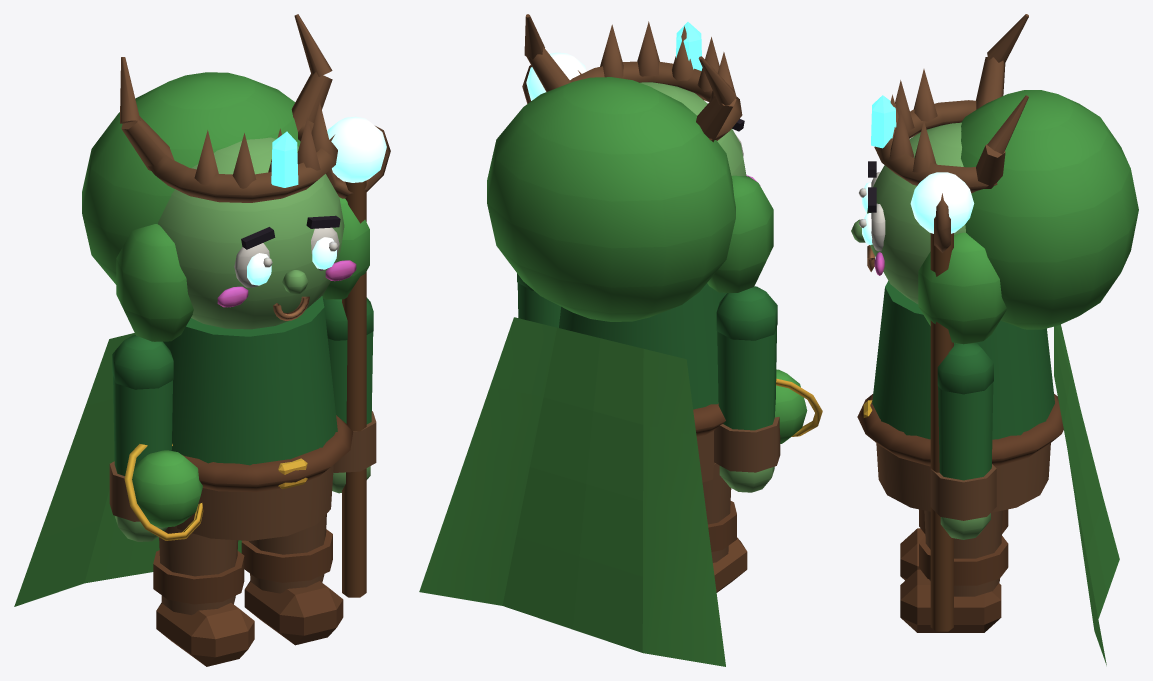
File: hero_verdant.glb
3 renders of one model, left to right at view 1: azimuth 30°, elevation 25°; view 2: azimuth 150°, elevation 25°; view 3: azimuth 270°, elevation 25°, orthographic. The views are drawn at different scales.
Parts seen in each view (by area): view 1: body_t0_palette, arml_t0_palette, armr_t0_palette, legl_t0_palette, legr_t0_palette, armr_t0_glow_teal, body_t0_crystal, body_t0_glow_teal; view 2: body_t0_palette, arml_t0_palette, legl_t0_palette, armr_t0_palette, armr_t0_glow_teal, body_t0_crystal; view 3: body_t0_palette, armr_t0_palette, legr_t0_palette, armr_t0_glow_teal, legl_t0_palette, body_t0_crystal.
Part boxes in pixels (x1,y1,x2,y2): body_t0_palette: (14,14,369,606); arml_t0_palette: (109,335,203,541); armr_t0_palette: (323,126,390,597); legl_t0_palette: (153,525,254,666); legr_t0_palette: (241,514,343,645); armr_t0_glow_teal: (327,116,386,182); body_t0_crystal: (271,131,298,187); body_t0_glow_teal: (247,237,336,285); body_t0_palette: (419,14,773,666); arml_t0_palette: (714,286,822,492); legl_t0_palette: (702,463,747,592); armr_t0_palette: (517,65,581,327); armr_t0_glow_teal: (526,52,586,100); body_t0_crystal: (676,22,702,70); body_t0_palette: (851,14,1138,665); armr_t0_palette: (930,193,996,631); legr_t0_palette: (900,510,1008,632); armr_t0_glow_teal: (910,172,974,233); legl_t0_palette: (900,509,1008,580); body_t0_crystal: (871,95,896,148).
Bounding box in the file's own units: 0.32 × 0.5711 × 0.271.
